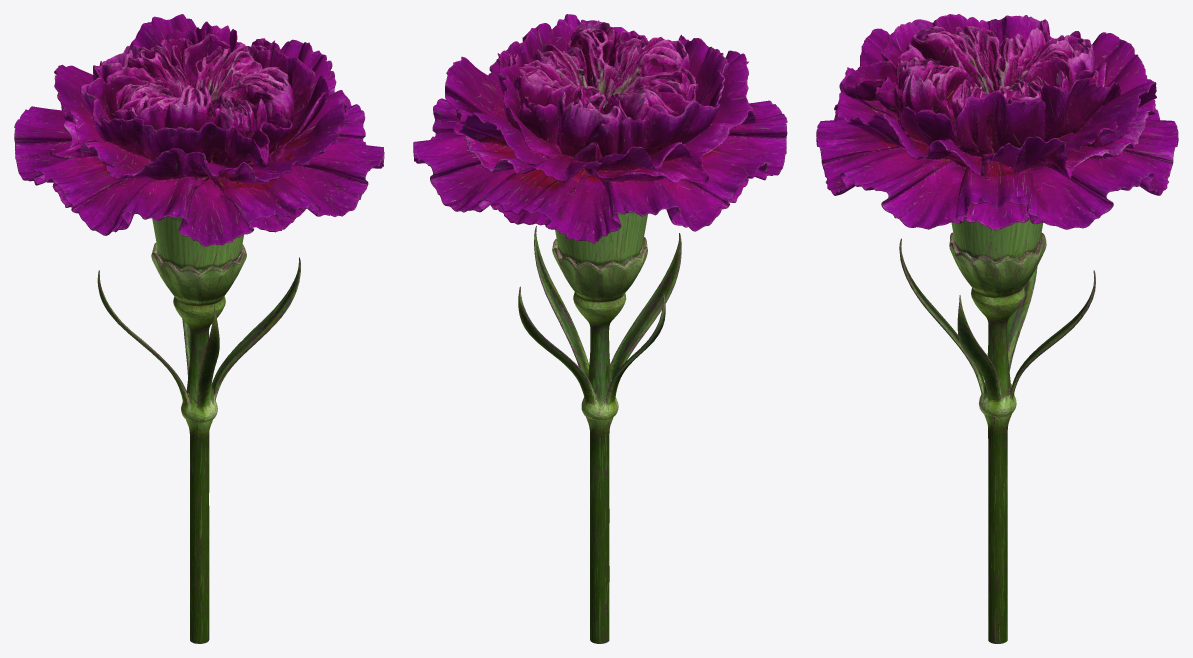
The model's file is purplrcarnation.glb.
3 views of the same model, side by side, from view 1: azimuth 30°, elevation 25°; view 2: azimuth 150°, elevation 25°; view 3: azimuth 270°, elevation 25° (orthographic). The views are drawn at different scales.
Size of the model in its own units: 1.11 by 2 by 1.11.
1 material, 1 textured.
